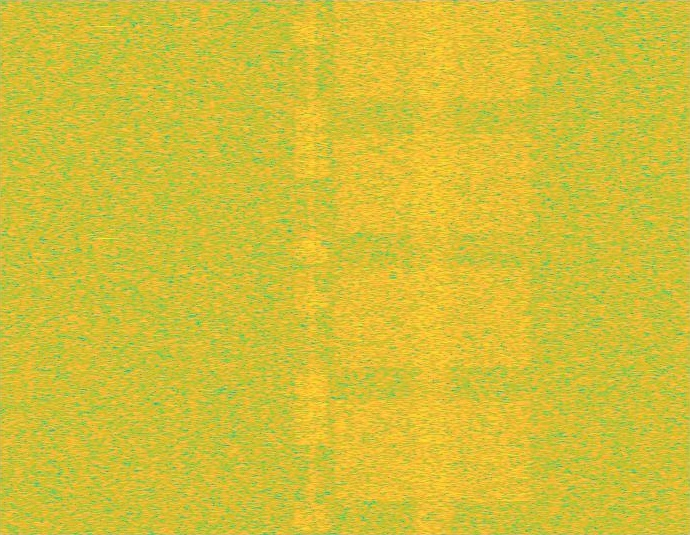5G: (329, 0, 536, 534)
DSSS: (409, 0, 456, 534), (308, 0, 316, 534)
LTE: (295, 0, 329, 534)
Radar: (99, 0, 113, 534)
